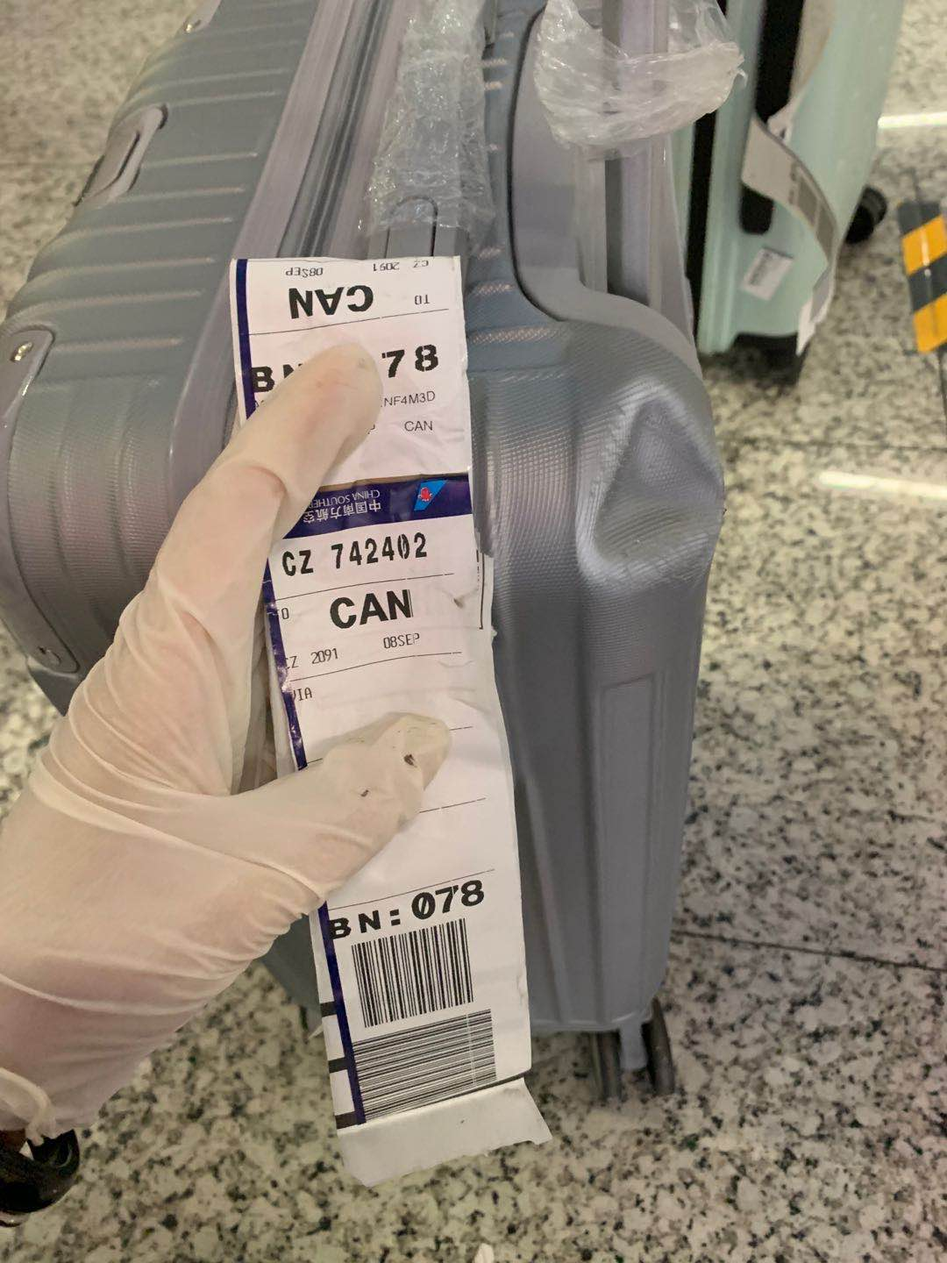rupture: (572, 375, 727, 601)
